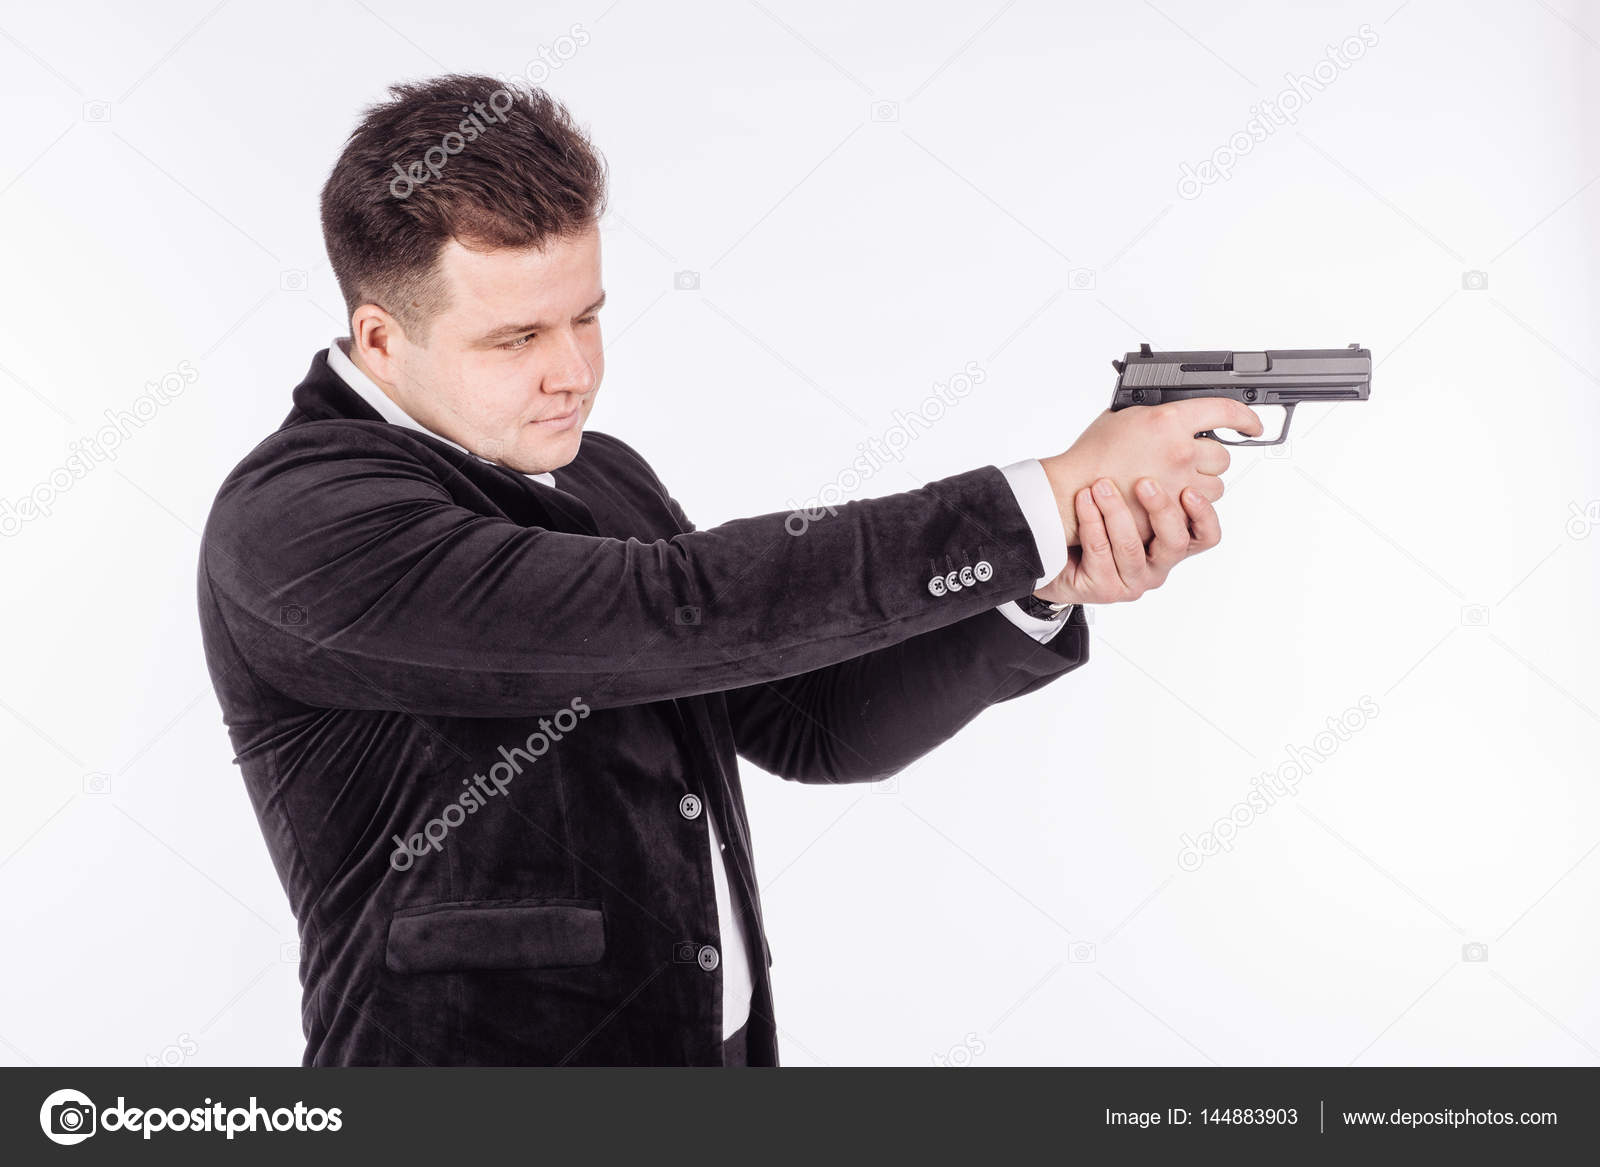gun: (1101, 338, 1375, 456)
